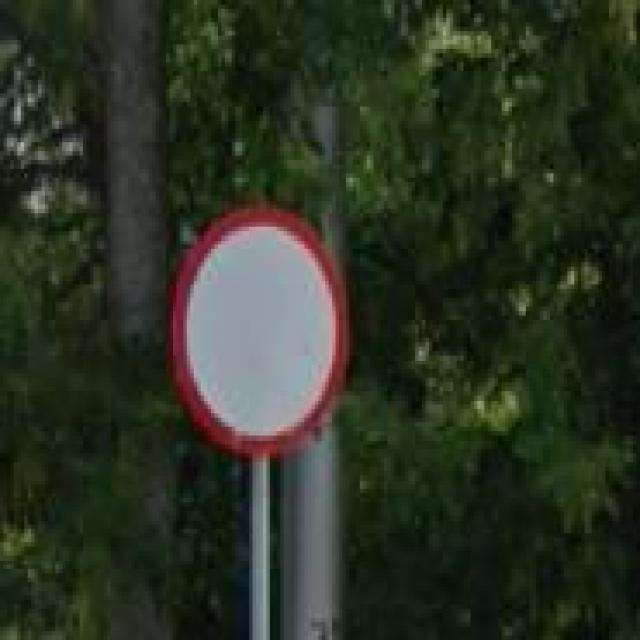no_passing: (170, 209, 350, 453)
